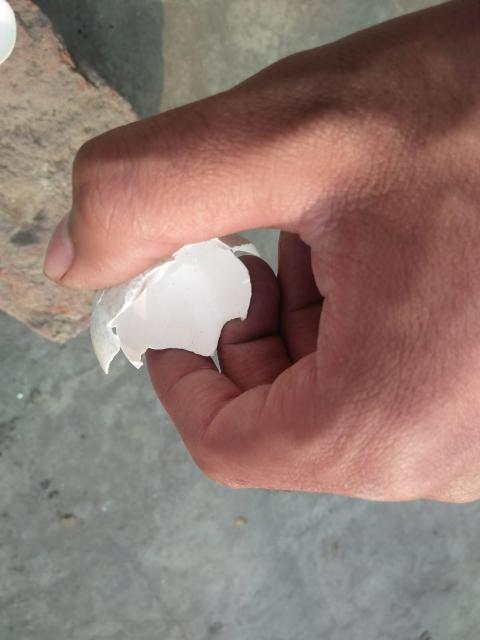Roto: (88, 232, 261, 374)
